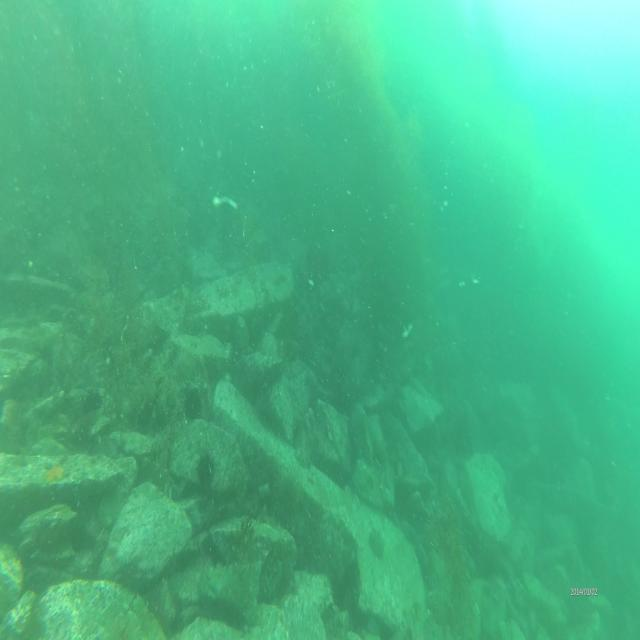echinus: (172, 345, 195, 386), (196, 449, 217, 488), (183, 382, 203, 418), (83, 387, 104, 412)
starfish: (44, 463, 64, 486)
